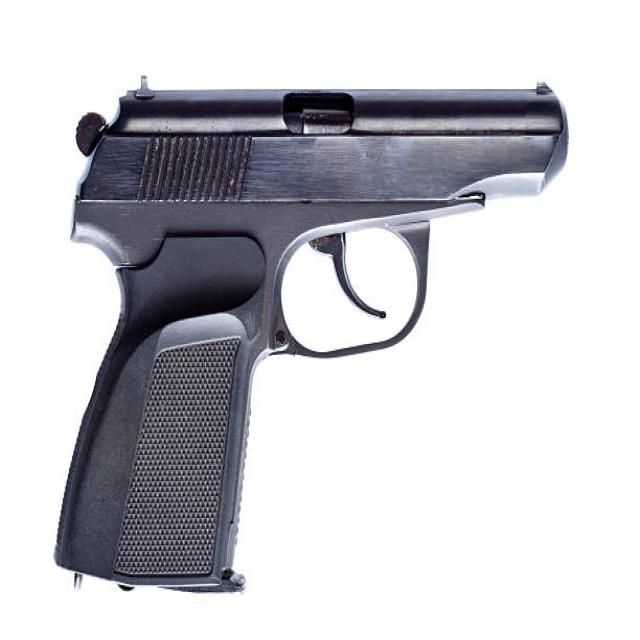pistol: (41, 69, 577, 604)
